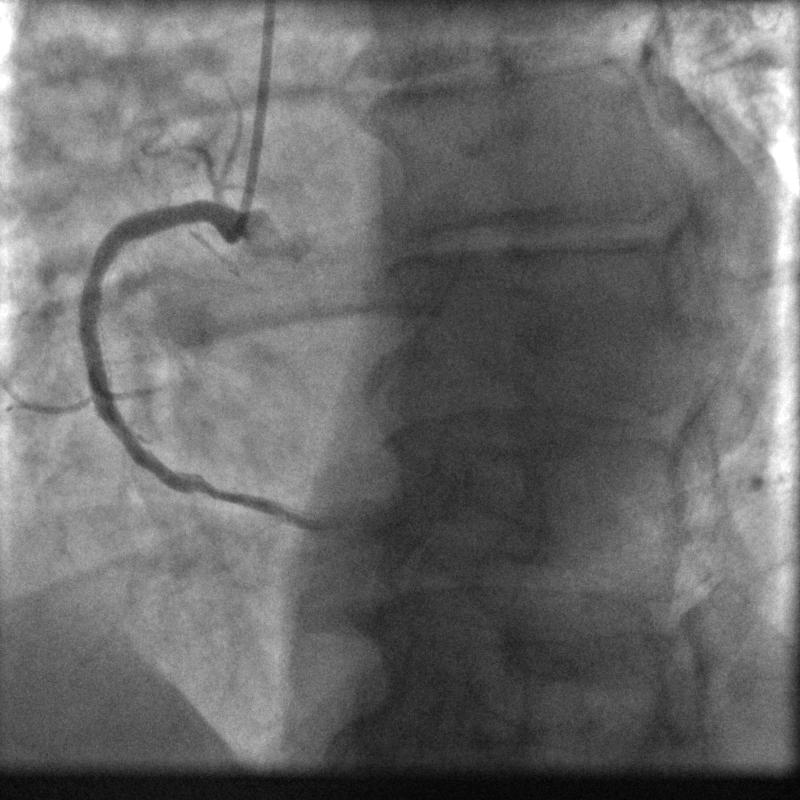Stenosis: (185, 472, 245, 509)
